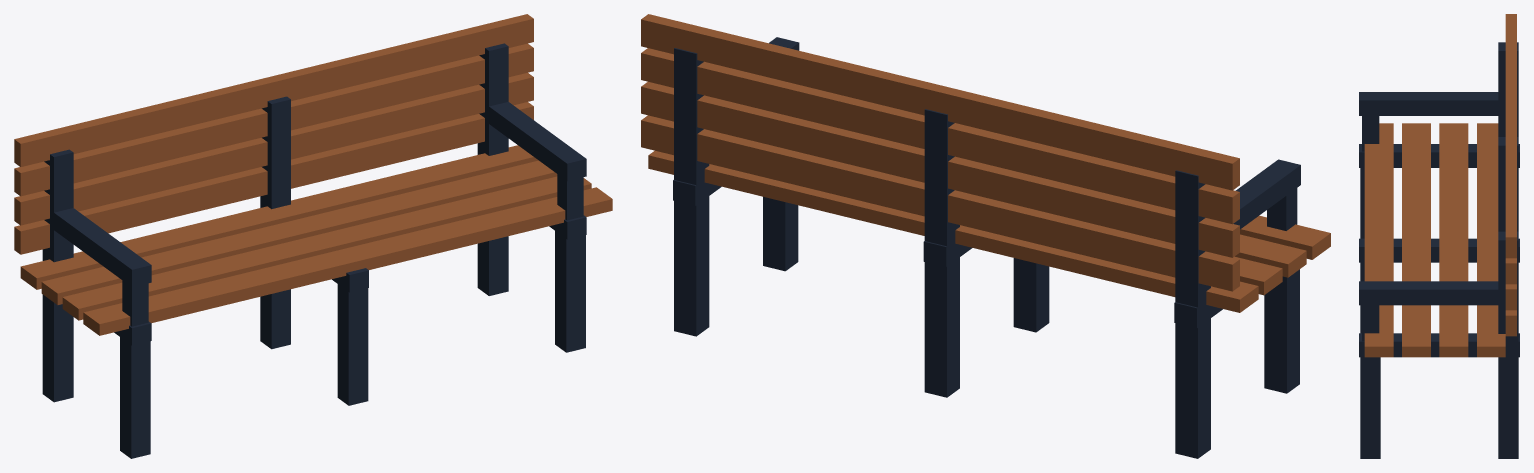
File: prop_06_dalat_wooden_park_bench.glb
3 views of the same model, side by side, from view 1: azimuth 30°, elevation 25°; view 2: azimuth 150°, elevation 25°; view 3: azimuth 270°, elevation 25° (orthographic). The views are drawn at different scales.
Parts seen in each view (by area): view 1: back_slat_3, back_slat_2, seat_slat_3, back_slat_1, back_slat_0, seat_slat_1, seat_slat_2, seat_slat_0, rear_leg_-0.78, rear_leg_0.0, rear_leg_0.78, front_leg_0.0 (+6 smaller); view 2: back_slat_3, back_slat_0, back_slat_2, back_slat_1, seat_slat_0, rear_leg_0.78, rear_leg_-0.78, rear_leg_0.0, front_leg_-0.78, front_leg_0.0, front_leg_0.78, armrest_-0.78 (+7 smaller); view 3: seat_slat_1, seat_slat_2, seat_slat_3, seat_slat_0, armrest_0.78, rear_leg_0.78, armrest_-0.78, back_slat_3, front_leg_0.78, rear_leg_-0.78, rear_leg_0.0, seat_support_0.78 (+8 smaller).
Part boxes in pixels (x1=…): back_slat_3: x1=14, y1=14, x2=533, y2=166; back_slat_2: x1=14, y1=43, x2=533, y2=196; seat_slat_3: x1=83, y1=187, x2=612, y2=335; back_slat_1: x1=14, y1=72, x2=533, y2=225; back_slat_0: x1=14, y1=102, x2=533, y2=254; seat_slat_1: x1=41, y1=160, x2=557, y2=304; seat_slat_2: x1=62, y1=176, x2=591, y2=320; seat_slat_0: x1=20, y1=145, x2=538, y2=289; rear_leg_-0.78: x1=42, y1=149, x2=73, y2=402; rear_leg_0.0: x1=260, y1=96, x2=290, y2=349; rear_leg_0.78: x1=477, y1=43, x2=508, y2=295; front_leg_0.0: x1=337, y1=284, x2=368, y2=405; back_slat_3: x1=641, y1=14, x2=1239, y2=190; back_slat_0: x1=641, y1=115, x2=1239, y2=291; back_slat_2: x1=641, y1=48, x2=1239, y2=224; back_slat_1: x1=641, y1=81, x2=1239, y2=257; seat_slat_0: x1=648, y1=150, x2=1258, y2=312; rear_leg_0.78: x1=674, y1=48, x2=709, y2=336; rear_leg_-0.78: x1=1175, y1=170, x2=1210, y2=458; rear_leg_0.0: x1=924, y1=109, x2=959, y2=397; front_leg_-0.78: x1=1264, y1=269, x2=1299, y2=393; front_leg_0.0: x1=1013, y1=258, x2=1049, y2=332; front_leg_0.78: x1=763, y1=196, x2=798, y2=271; armrest_-0.78: x1=1204, y1=159, x2=1300, y2=251; seat_slat_1: x1=1439, y1=123, x2=1468, y2=357; seat_slat_2: x1=1402, y1=123, x2=1430, y2=357; seat_slat_3: x1=1364, y1=123, x2=1393, y2=357; seat_slat_0: x1=1477, y1=123, x2=1505, y2=357; armrest_0.78: x1=1359, y1=281, x2=1505, y2=305; rear_leg_0.78: x1=1498, y1=231, x2=1518, y2=458; armrest_-0.78: x1=1359, y1=92, x2=1505, y2=115; back_slat_3: x1=1505, y1=14, x2=1516, y2=258; front_leg_0.78: x1=1360, y1=344, x2=1380, y2=458; rear_leg_-0.78: x1=1498, y1=42, x2=1518, y2=136; rear_leg_0.0: x1=1498, y1=137, x2=1518, y2=231; seat_support_0.78: x1=1359, y1=333, x2=1519, y2=357.
Bounding box in the file's own units: 1.84 × 0.9 × 0.56.
